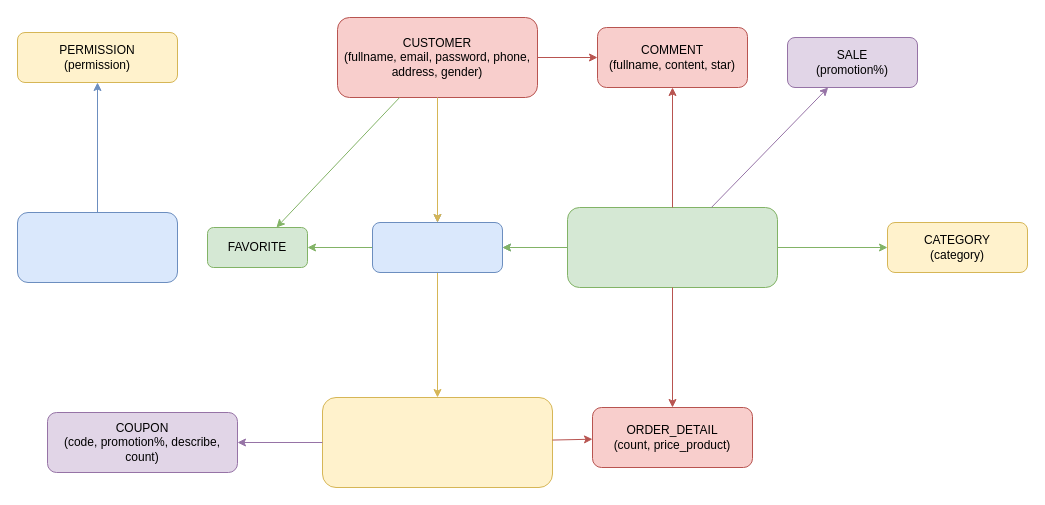
Image size: 1045x505. Some labels were removed from this diagram. Each missing label, with the centre of its shape:
"CART (count)" belongs at (437,247).
"ORDER (fullname, email, phone, address, total, status, pay, feeship, note)" belongs at (437,442).
"PRODUCT (name_product, price_product, image, describe, stock, count_sell)" belongs at (672,247).
"USER (fullname, email, password, phone)" belongs at (97,247).
